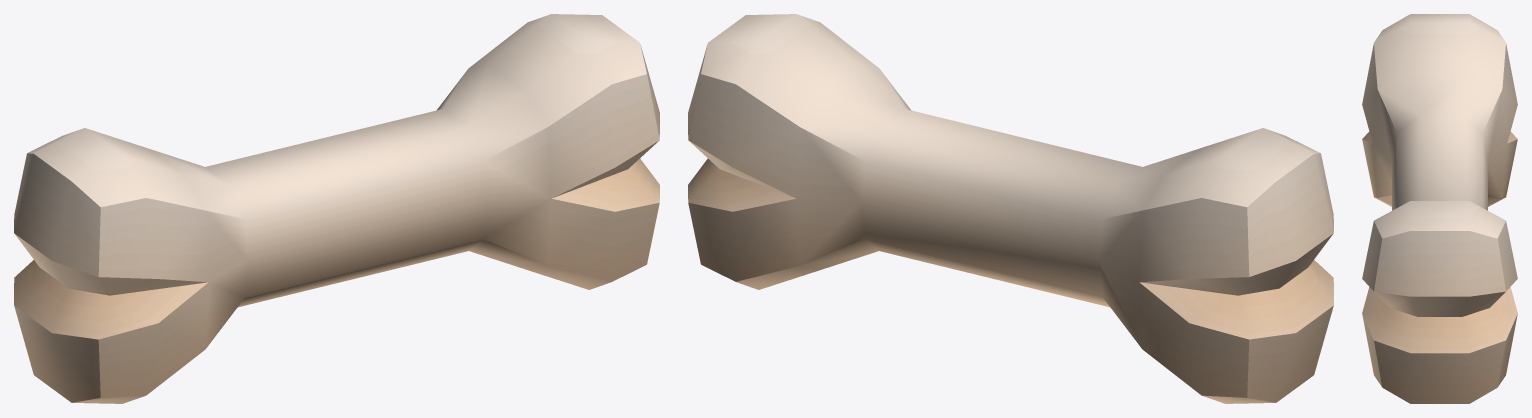
The model's file is hb_bone.glb.
The picture shows the model from 3 angles, left to right: view 1: azimuth 30°, elevation 25°; view 2: azimuth 150°, elevation 25°; view 3: azimuth 270°, elevation 25°; orthographic projection. The views are drawn at different scales.
Visible parts, largest first — view 1: bone_A; view 2: bone_A; view 3: bone_A.
Part boxes in pixels (x1,y1,x2,y2): bone_A: [14, 14, 659, 403]; bone_A: [688, 14, 1333, 403]; bone_A: [1362, 14, 1517, 403].
Bounding box in the file's own units: 0.4 × 0.1562 × 0.1135.
Materials: 1 (1 with a texture image).
